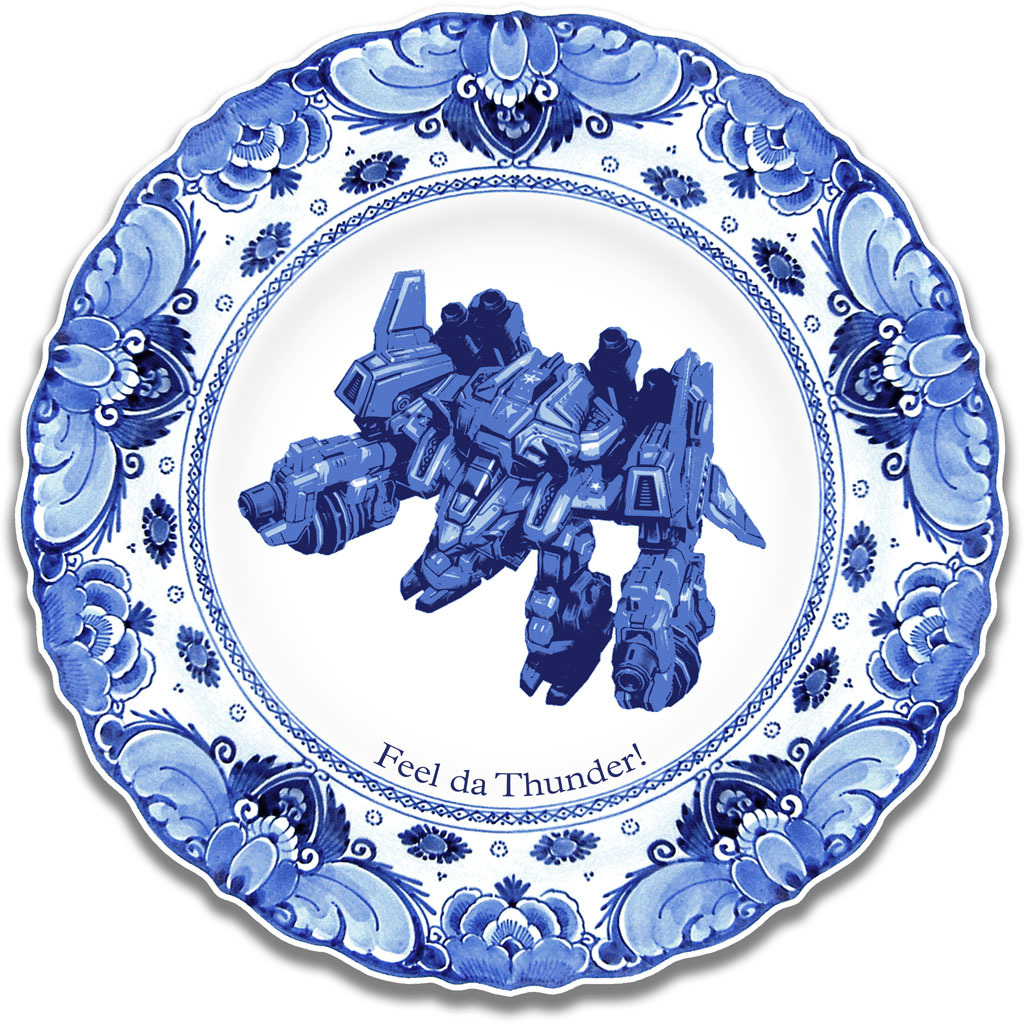plate: (13, 5, 1008, 997)
